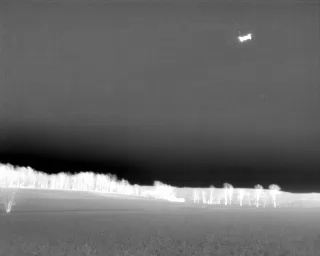DRONE: (234, 28, 257, 48)
